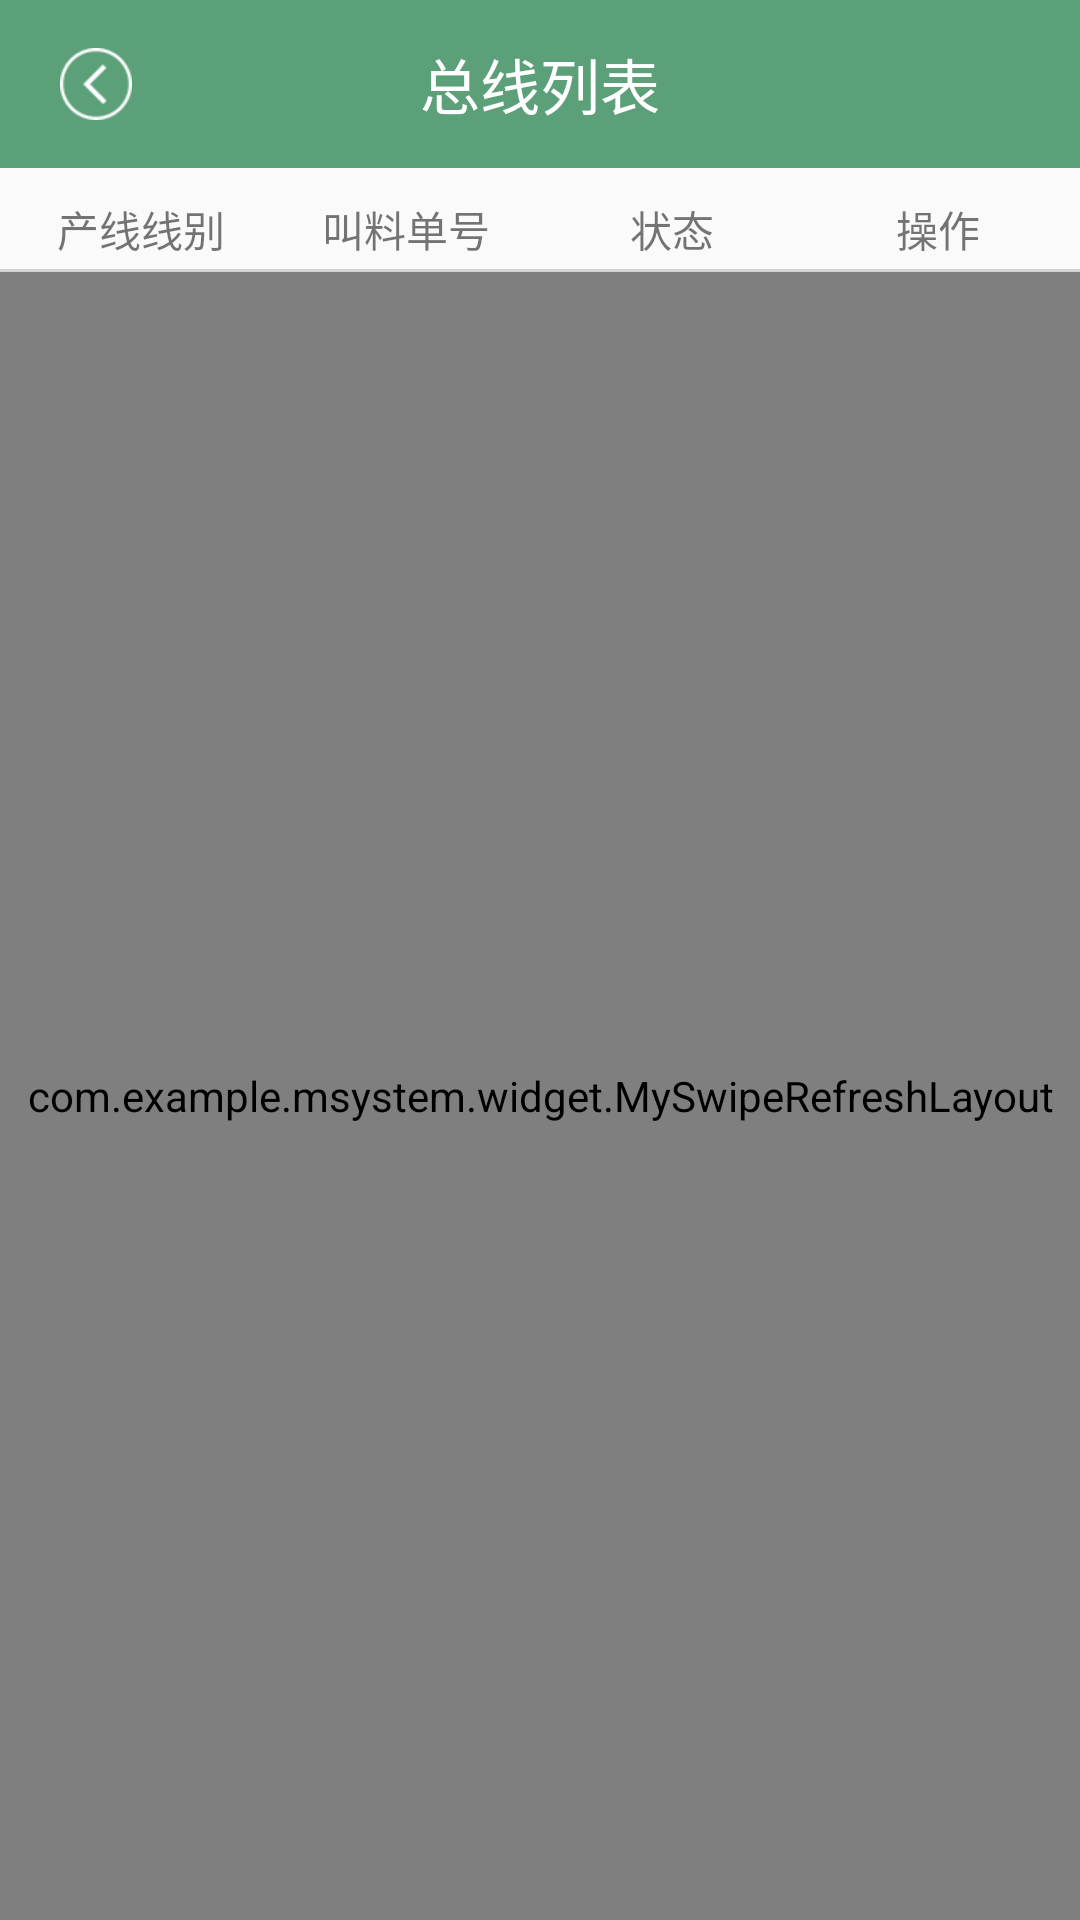

Screen size 1080 × 1920. Icon name, then its center in pixels as (x=x, y=y):
back: (x=96, y=84)
